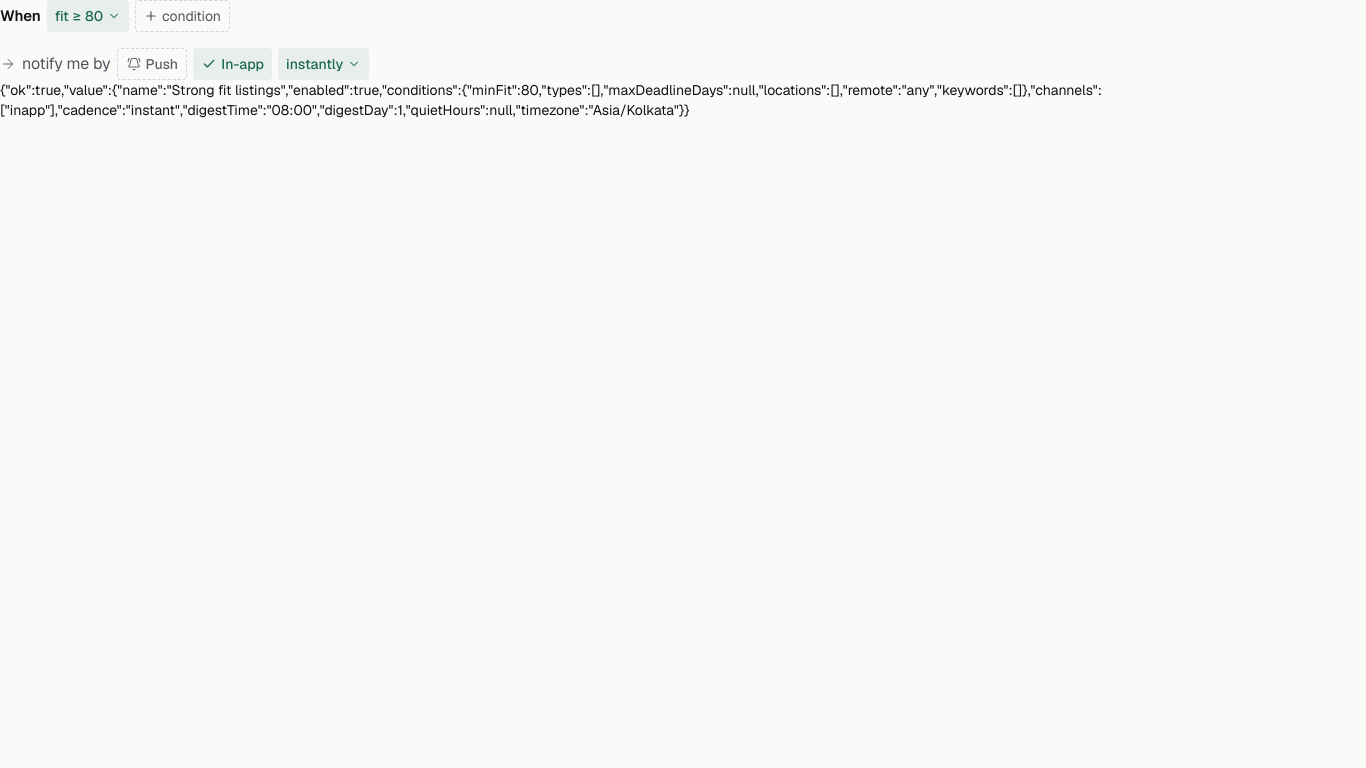
Test: SentenceBuilder → alertRuleInputSchema › adds a type condition with + condition, opens it, and maps the choice
Click the button with test id "alerts-add-condition".
click(182, 16)  # box [135,0,230,32]
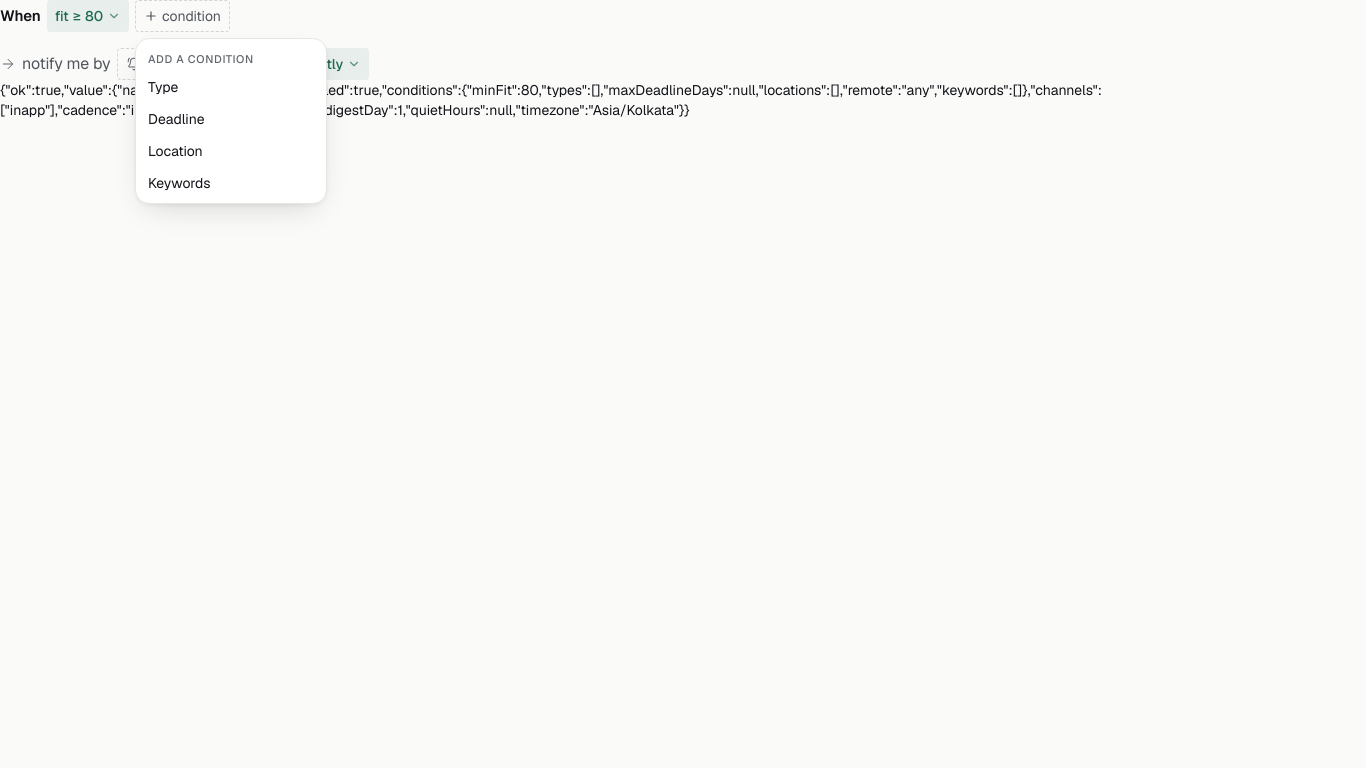
Click the menu item "Type".
click(163, 87)  # box [148,78,178,96]
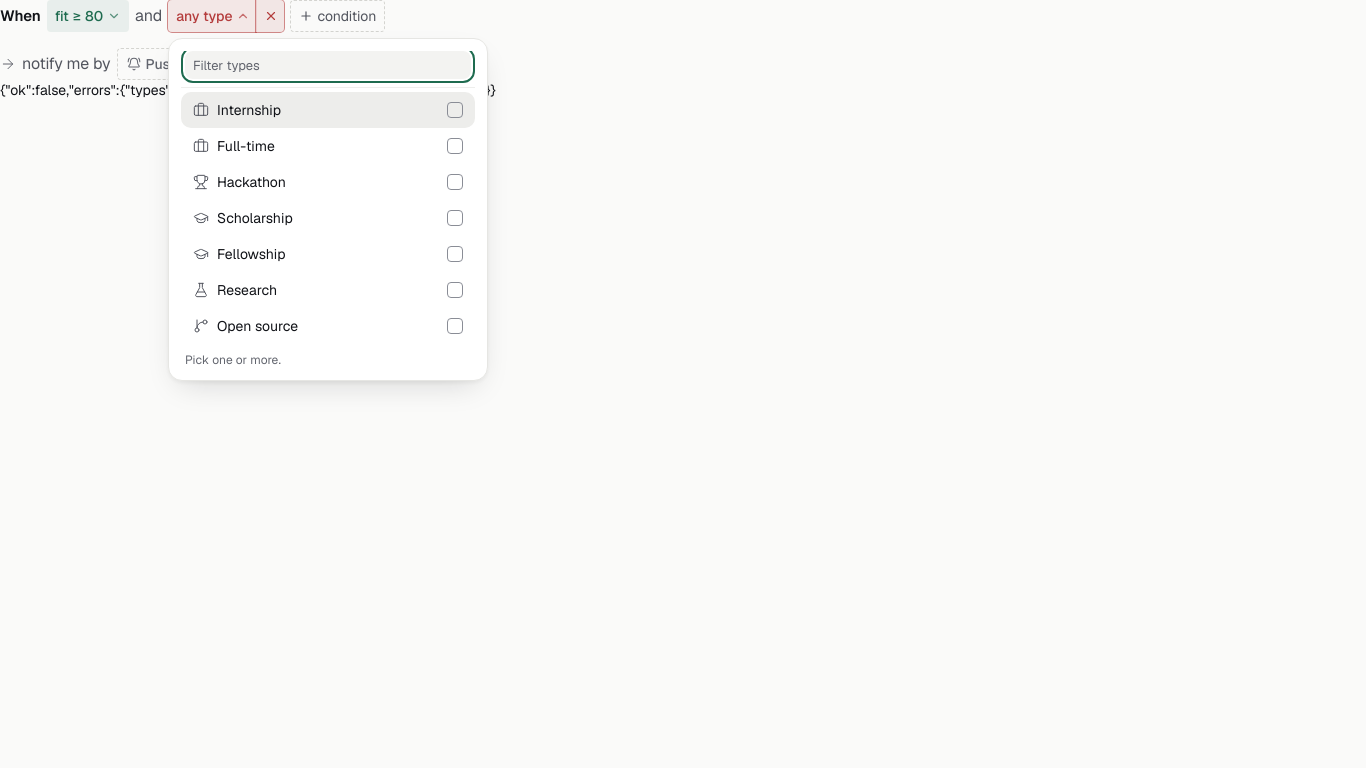
Click the option "Hackathon".
click(251, 182)  # box [193,173,463,191]
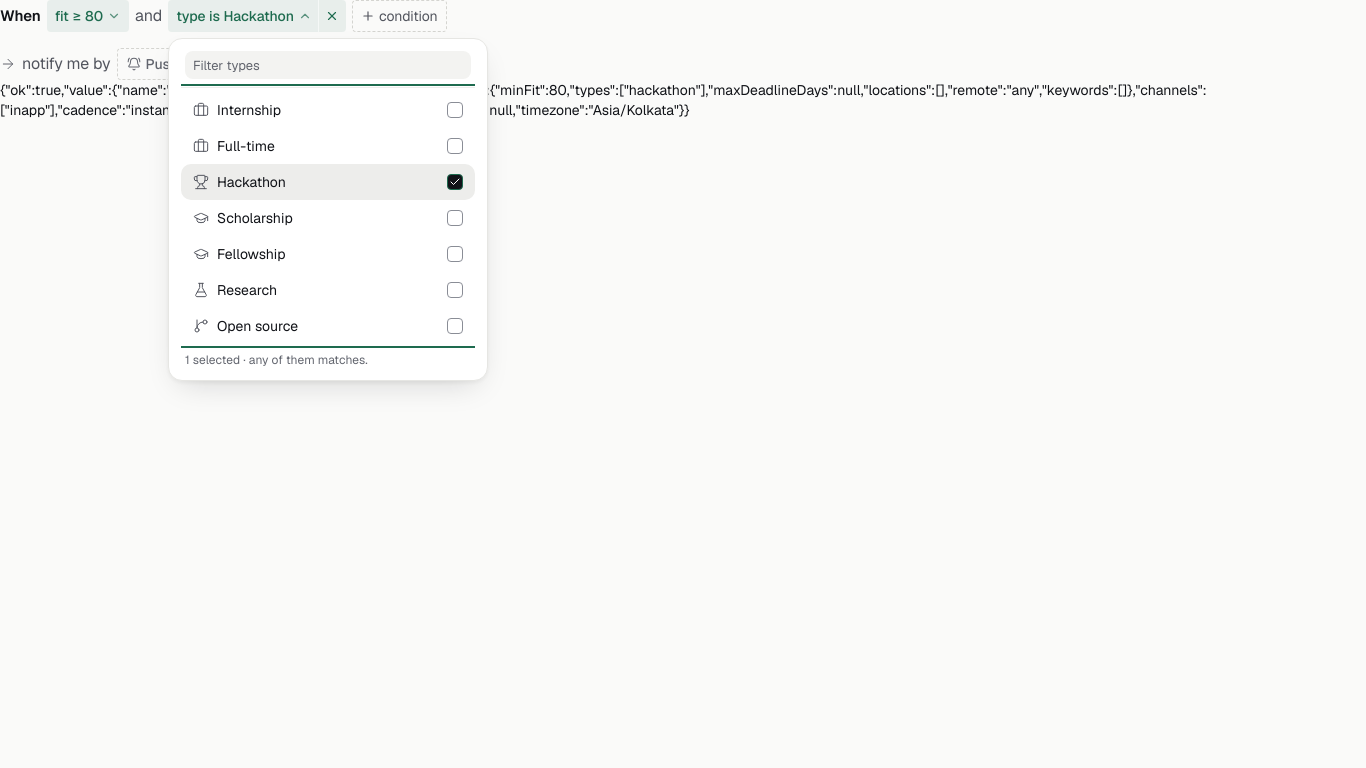
Expected: the button with test id "alerts-cond-type" reads "type is Hackathon", [168,0,318,32]
Press Escape
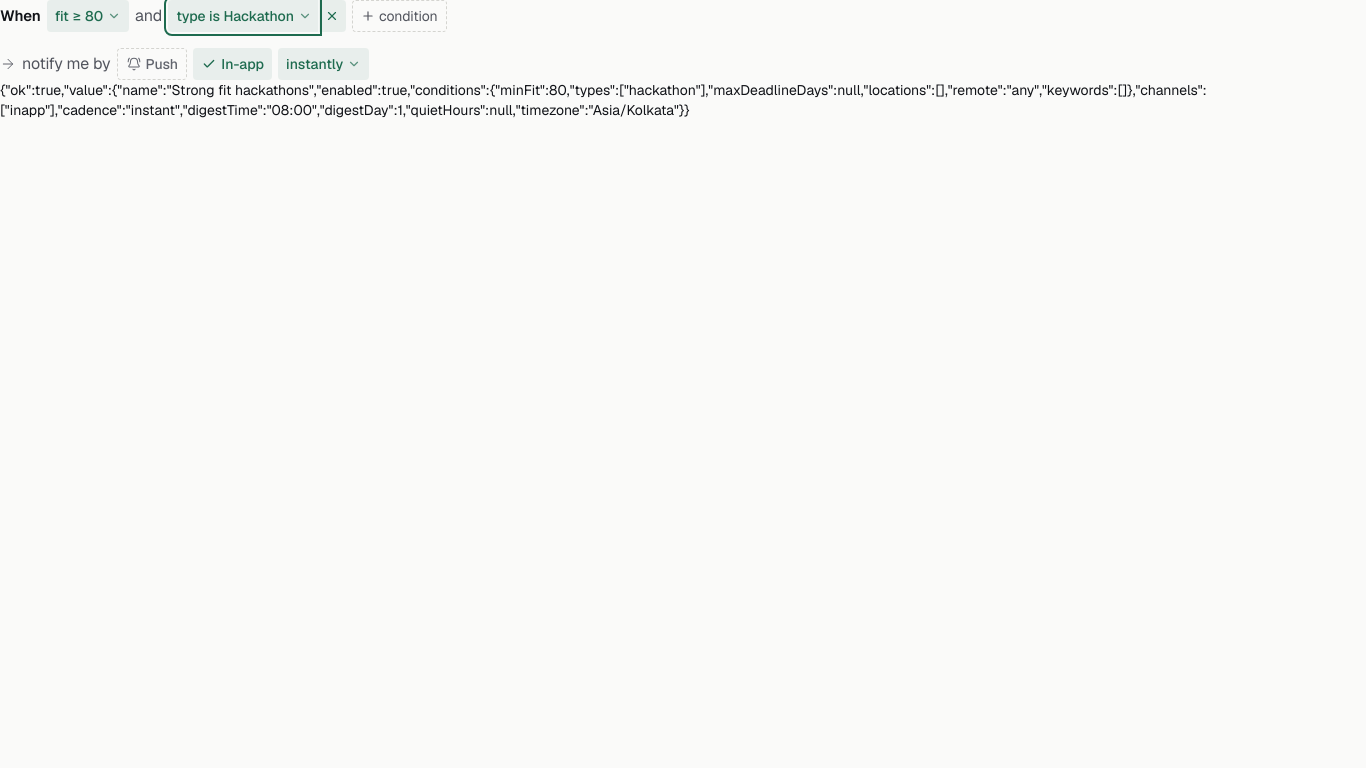
Click the button named "Remove type condition".
click(332, 16)  # box [318,0,346,32]
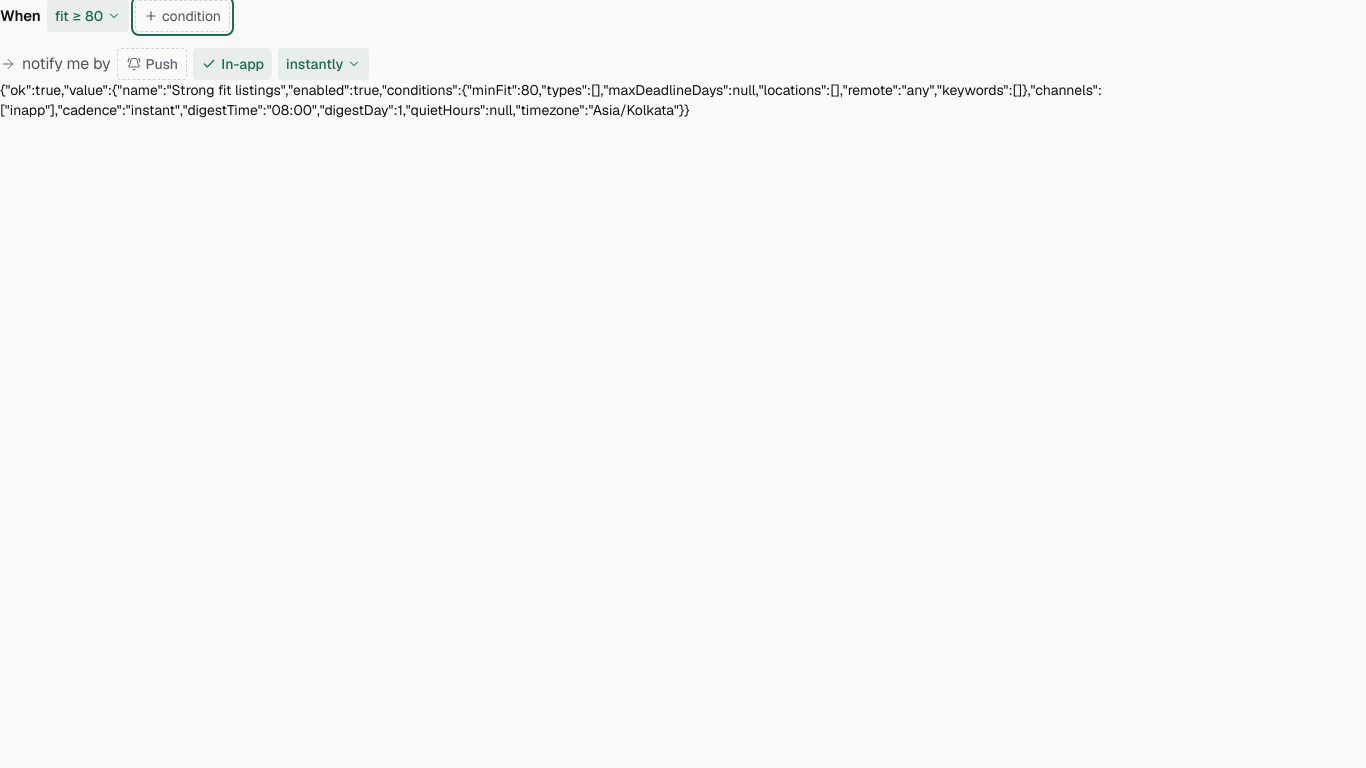
Expected: the button with test id "alerts-cond-type" is gone
